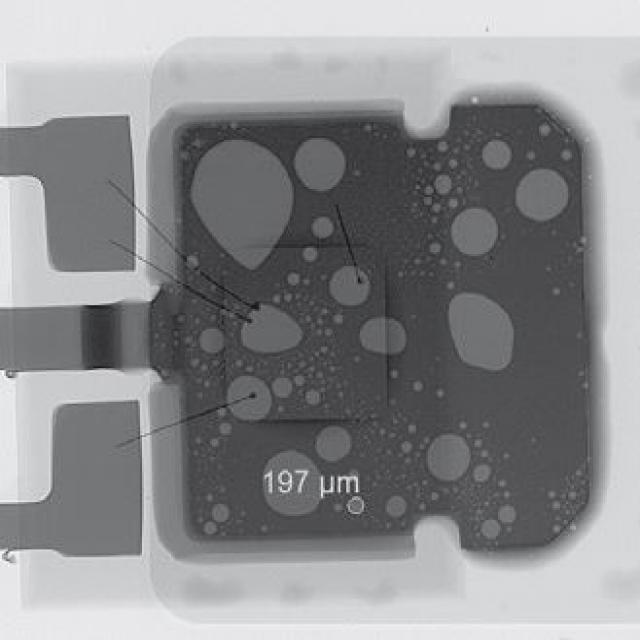component: (147, 102, 589, 553)
void: (191, 140, 294, 271), (449, 295, 516, 371), (265, 453, 321, 518), (241, 305, 303, 354), (517, 169, 570, 222), (294, 138, 346, 192), (451, 209, 500, 257), (428, 435, 473, 483), (228, 376, 272, 422), (360, 317, 409, 355), (331, 266, 372, 307), (315, 427, 352, 464), (484, 140, 514, 170), (200, 329, 224, 353), (385, 496, 409, 520), (311, 217, 335, 239), (274, 378, 292, 399), (348, 498, 366, 517), (482, 522, 500, 541), (500, 506, 517, 525), (436, 175, 453, 194), (475, 465, 492, 483), (212, 506, 230, 523), (303, 246, 319, 263), (305, 390, 321, 407), (204, 524, 218, 537), (430, 242, 444, 255), (288, 274, 302, 287), (187, 256, 200, 269), (220, 423, 231, 437), (541, 124, 552, 137), (438, 142, 449, 153), (403, 443, 414, 454), (562, 150, 574, 160), (426, 185, 436, 196), (414, 382, 424, 393), (296, 376, 305, 387), (210, 439, 220, 448), (449, 199, 459, 208), (335, 315, 344, 325), (434, 161, 444, 170), (325, 329, 335, 338), (335, 504, 344, 514), (409, 148, 418, 157), (409, 425, 418, 434), (527, 152, 537, 160), (218, 410, 228, 418), (426, 197, 434, 206), (391, 370, 399, 379), (206, 494, 214, 503), (554, 526, 562, 535), (554, 502, 562, 511), (570, 492, 578, 501), (274, 295, 282, 304), (284, 293, 292, 302), (447, 282, 455, 290), (451, 160, 459, 168), (461, 423, 469, 431), (364, 124, 373, 131), (438, 390, 445, 399), (475, 441, 484, 448), (549, 492, 558, 499), (440, 258, 449, 265), (504, 453, 510, 462), (500, 480, 506, 489), (420, 504, 426, 513), (456, 262, 463, 269), (554, 288, 560, 296), (484, 423, 492, 429), (278, 406, 284, 413)
